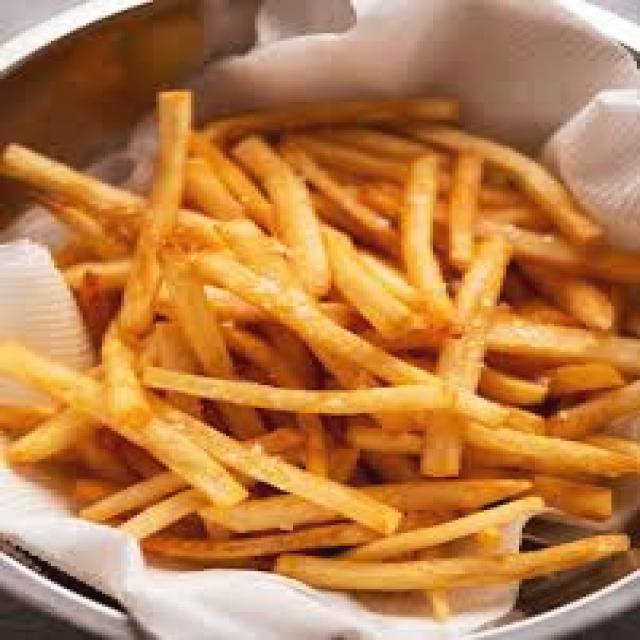french fries: (6, 90, 639, 590)
